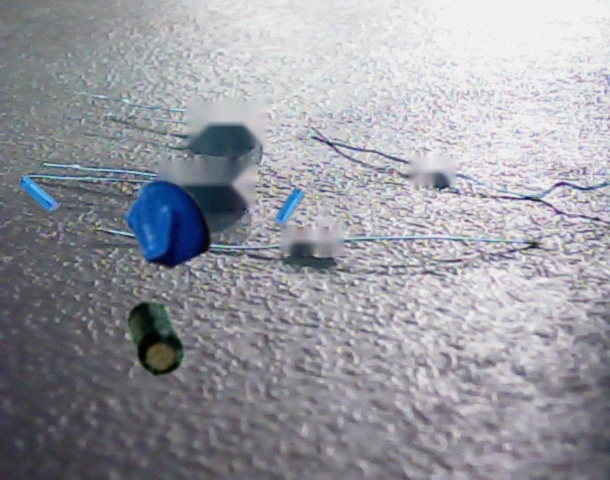capacitor: (124, 180, 211, 269), (127, 301, 186, 377), (19, 174, 62, 212), (275, 188, 305, 228)
